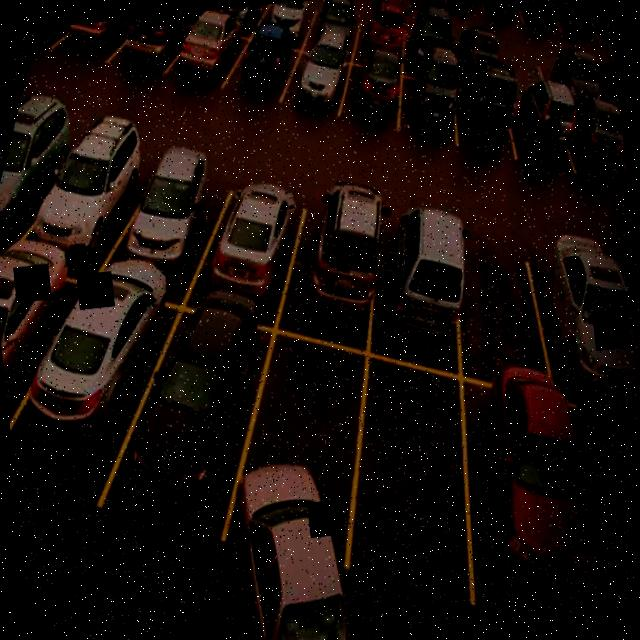empty: (304, 337, 514, 603), (412, 211, 583, 404), (482, 29, 563, 112)
occupied: (420, 348, 628, 626), (202, 316, 406, 576), (0, 246, 191, 514), (103, 291, 290, 547), (329, 186, 502, 390), (173, 158, 334, 360), (10, 99, 172, 298), (91, 126, 251, 326), (258, 165, 422, 356), (494, 224, 640, 425), (0, 225, 98, 499), (0, 91, 89, 258), (218, 15, 314, 124), (538, 92, 629, 206), (159, 5, 261, 104), (266, 34, 363, 133), (492, 77, 584, 181), (441, 70, 532, 166), (528, 27, 620, 117), (385, 51, 470, 148), (329, 48, 417, 140), (387, 0, 479, 88), (108, 11, 206, 87), (339, 0, 423, 80), (446, 15, 522, 100), (56, 16, 156, 75), (293, 0, 373, 68), (587, 107, 631, 222), (30, 20, 114, 66), (255, 0, 323, 48), (580, 46, 620, 126), (212, 3, 274, 38)
